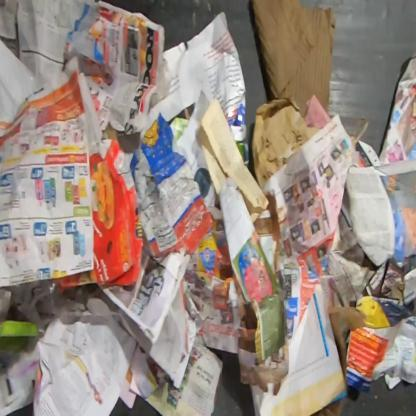cardboard: (46, 139, 145, 293), (130, 111, 216, 263), (249, 0, 336, 118), (326, 306, 368, 383), (0, 286, 41, 358)
